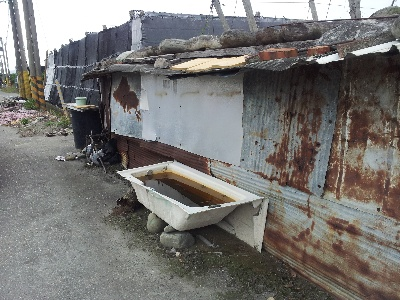bowl: (73, 93, 89, 108)
bucket: (70, 109, 103, 150)
tub: (115, 158, 264, 233)
